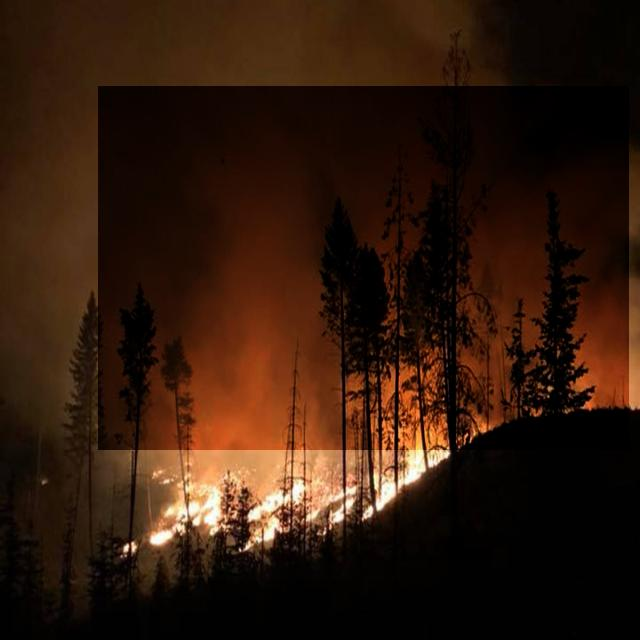Fire: (113, 385, 491, 562)
Smoke: (98, 86, 629, 450)
